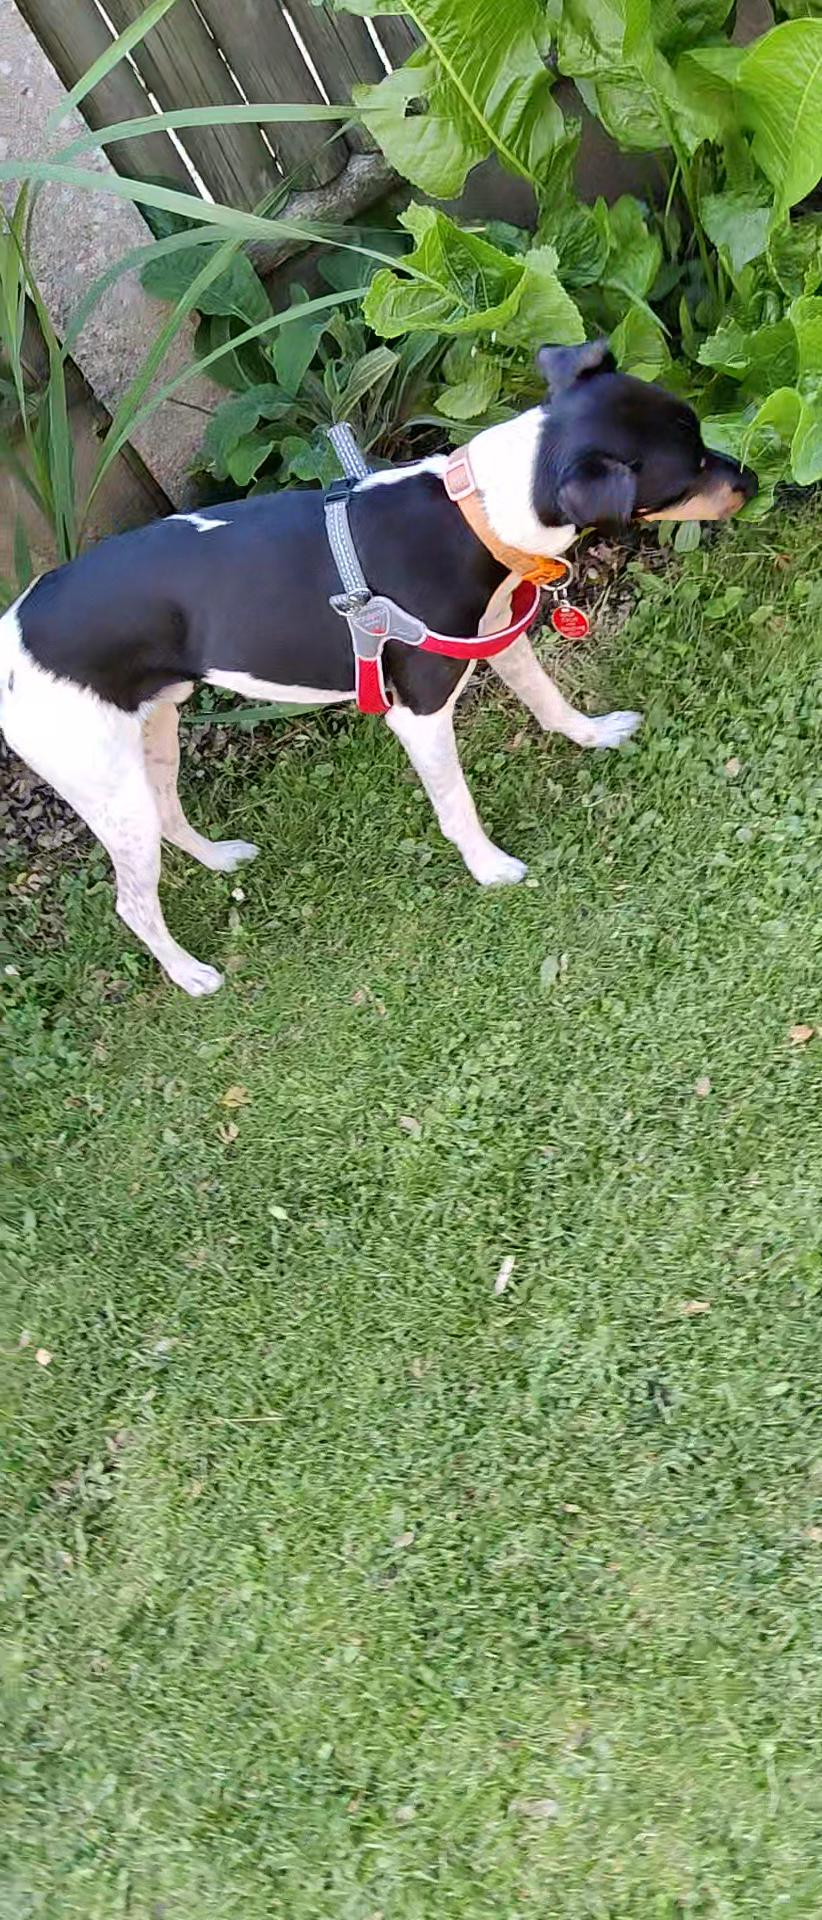Dog: (0, 315, 769, 1015)
